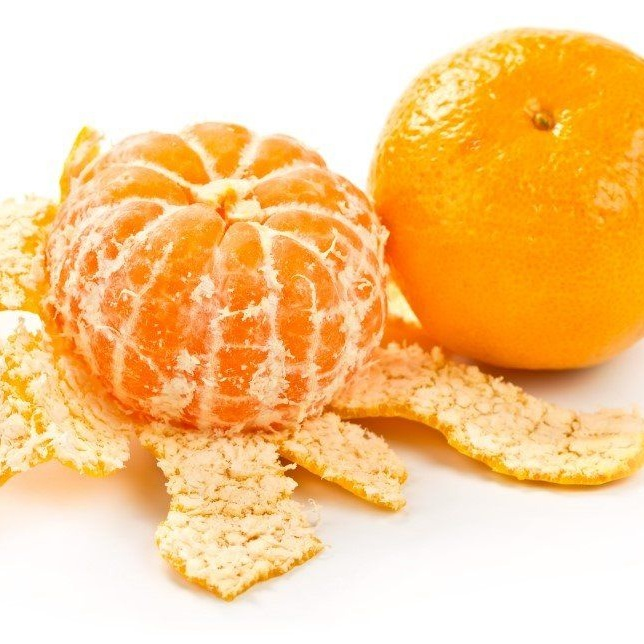mandarin: (47, 124, 394, 431), (371, 30, 644, 372)
